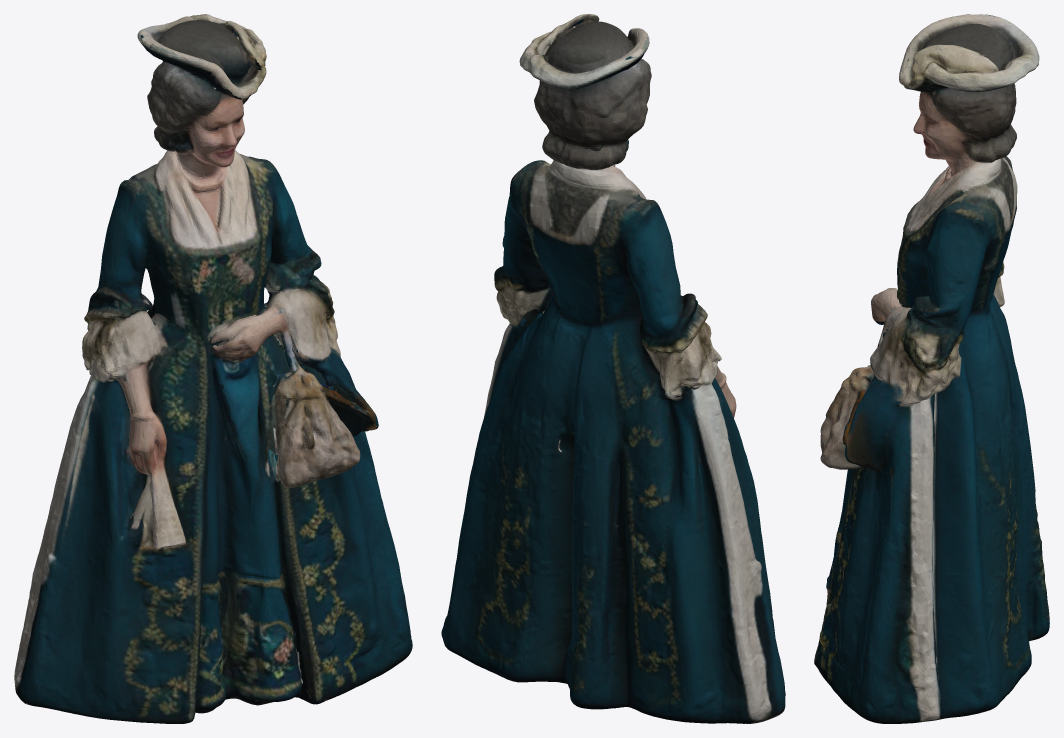
3 views of the same model, side by side, from view 1: azimuth 30°, elevation 25°; view 2: azimuth 150°, elevation 25°; view 3: azimuth 270°, elevation 25° (orthographic). The views are drawn at different scales.
Parts seen in each view (by area): view 1: world; view 2: world; view 3: world.
Boxes of the visible parts, bbox=[...] form: world: bbox=[14, 14, 412, 723]; world: bbox=[441, 14, 785, 723]; world: bbox=[814, 14, 1049, 723].
Size of the model in its own units: 1.15 by 1.99 by 0.6916.
Materials: 1 (1 with a texture image).
